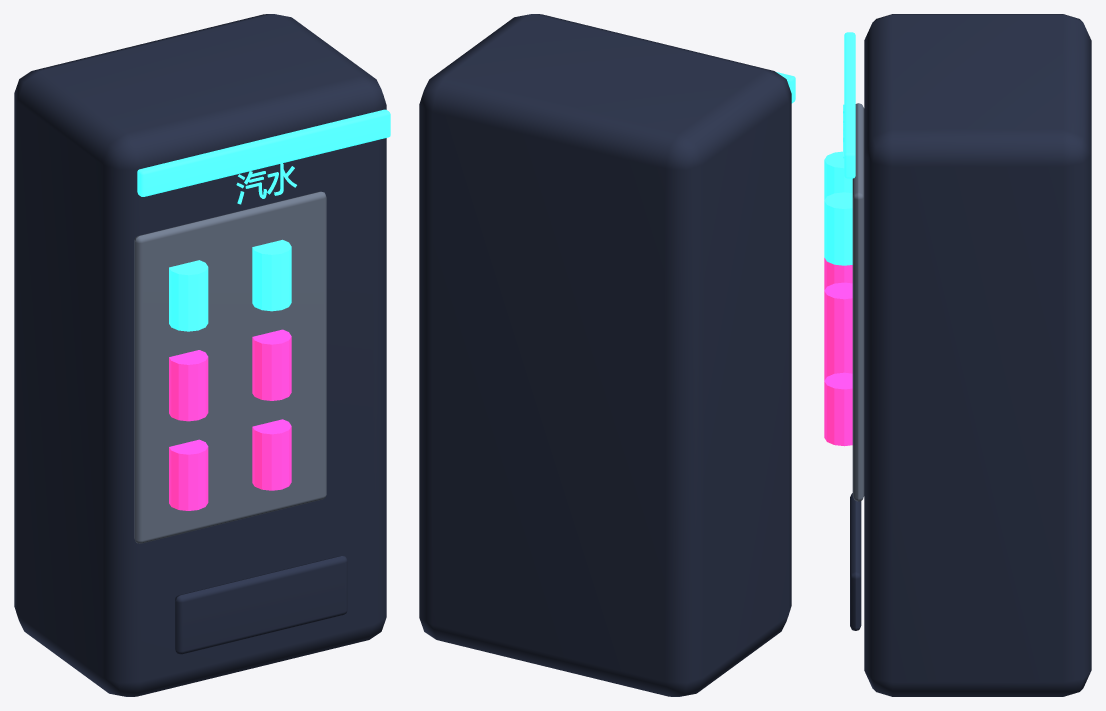
File: vending.glb
3 renders of one model, left to right at view 1: azimuth 30°, elevation 25°; view 2: azimuth 150°, elevation 25°; view 3: azimuth 270°, elevation 25°, orthographic.
Visible parts, largest first — view 1: Vending shell, Glass front, Vending pickup, Vending rim, Drink bottle.002, Drink bottle.003, Drink bottle.005, Drink bottle.001, Drink bottle.004, Drink bottle, Sign_汽水; view 2: Vending shell; view 3: Vending shell, Glass front, Drink bottle.003, Drink bottle.004, Drink bottle.005, Vending rim, Vending pickup, Drink bottle.002, Drink bottle.001, Drink bottle.
Boxes of the visible parts, <box> form: Vending shell: <box>14,14,386,696</box>; Glass front: <box>134,191,326,543</box>; Vending pickup: <box>175,556,347,654</box>; Vending rim: <box>137,109,390,196</box>; Drink bottle.002: <box>169,260,208,331</box>; Drink bottle.003: <box>252,419,291,490</box>; Drink bottle.005: <box>252,239,291,311</box>; Drink bottle.001: <box>169,350,208,421</box>; Drink bottle.004: <box>252,329,291,400</box>; Drink bottle: <box>169,439,208,510</box>; Sign_汽水: <box>236,163,296,204</box>; Vending shell: <box>419,14,791,696</box>; Vending shell: <box>864,14,1091,696</box>; Glass front: <box>852,103,864,501</box>; Drink bottle.003: <box>824,372,852,446</box>; Drink bottle.004: <box>824,282,852,355</box>; Drink bottle.005: <box>824,192,852,265</box>; Vending rim: <box>844,32,855,178</box>; Vending pickup: <box>850,493,861,630</box>; Drink bottle.002: <box>824,151,852,199</box>; Drink bottle.001: <box>824,258,852,290</box>; Drink bottle: <box>824,348,852,380</box>.
Bounding box in the file's own units: 1.15 × 2.2 × 0.94.
